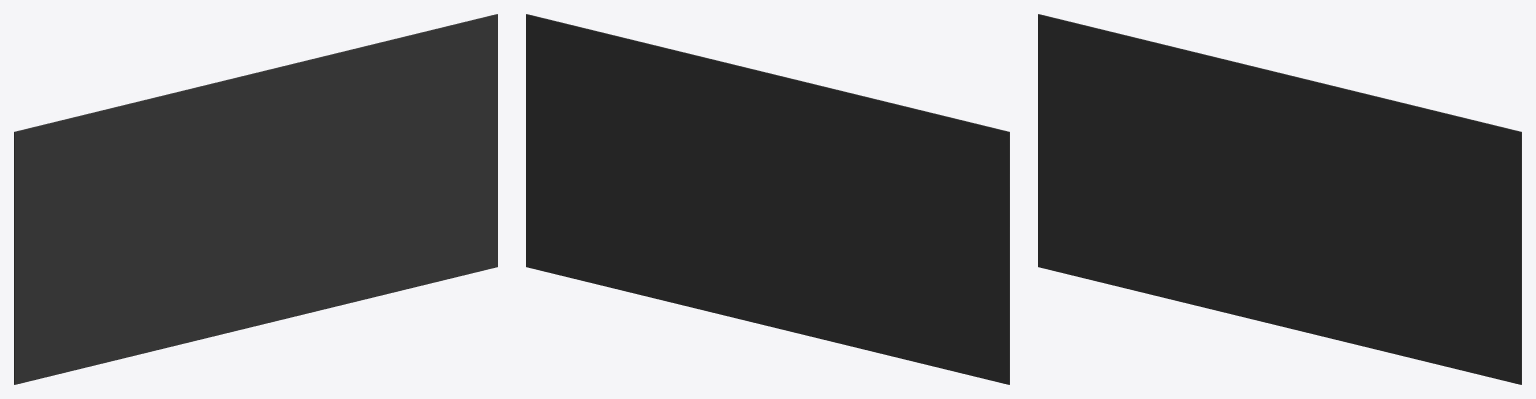
The model's file is silk-wall-2000x1000.glb.
3 views of the same model, side by side, from view 1: azimuth 30°, elevation 25°; view 2: azimuth 150°, elevation 25°; view 3: azimuth 330°, elevation 25° (orthographic).
Visible parts, largest first — view 1: Silk_Wall_2000x1000_41537M.obj; view 2: Silk_Wall_2000x1000_41537M.obj; view 3: Silk_Wall_2000x1000_41537M.obj.
Part boxes in pixels (x1,y1,x2,y2): Silk_Wall_2000x1000_41537M.obj: [14, 14, 497, 384]; Silk_Wall_2000x1000_41537M.obj: [526, 14, 1009, 384]; Silk_Wall_2000x1000_41537M.obj: [1038, 14, 1521, 384].
Size of the model in its own units: 2 by 1 by 0.004.
1 material, 1 textured.
